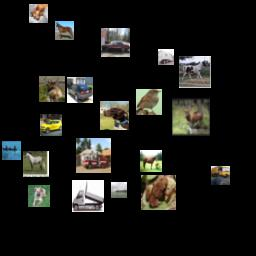automobile: (101, 28, 130, 57), (67, 77, 93, 103), (40, 114, 62, 136)
bird: (136, 89, 162, 115)
cat: (29, 4, 48, 23)
deer: (172, 98, 210, 136), (39, 76, 65, 102)
dog: (100, 101, 129, 130), (28, 185, 50, 207)
frog: (141, 175, 176, 210)
ship: (2, 141, 21, 160), (111, 182, 127, 198)
truck: (76, 138, 111, 173), (72, 180, 104, 212), (211, 166, 230, 185), (158, 49, 174, 65)
